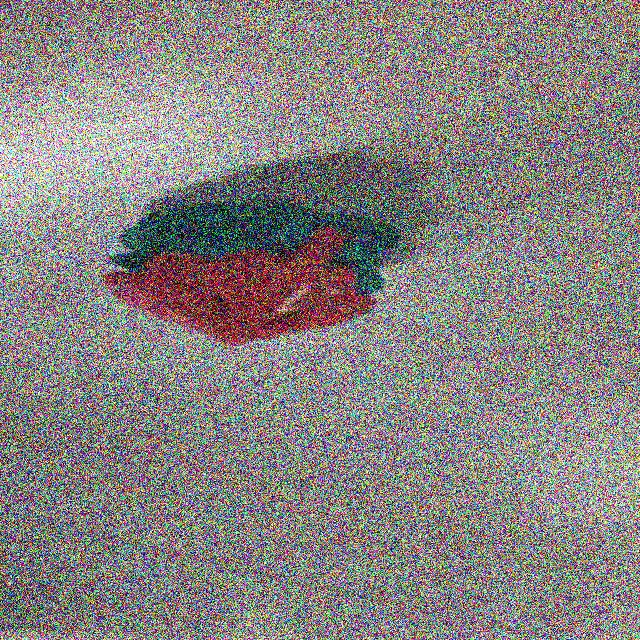House: (101, 202, 411, 346)
